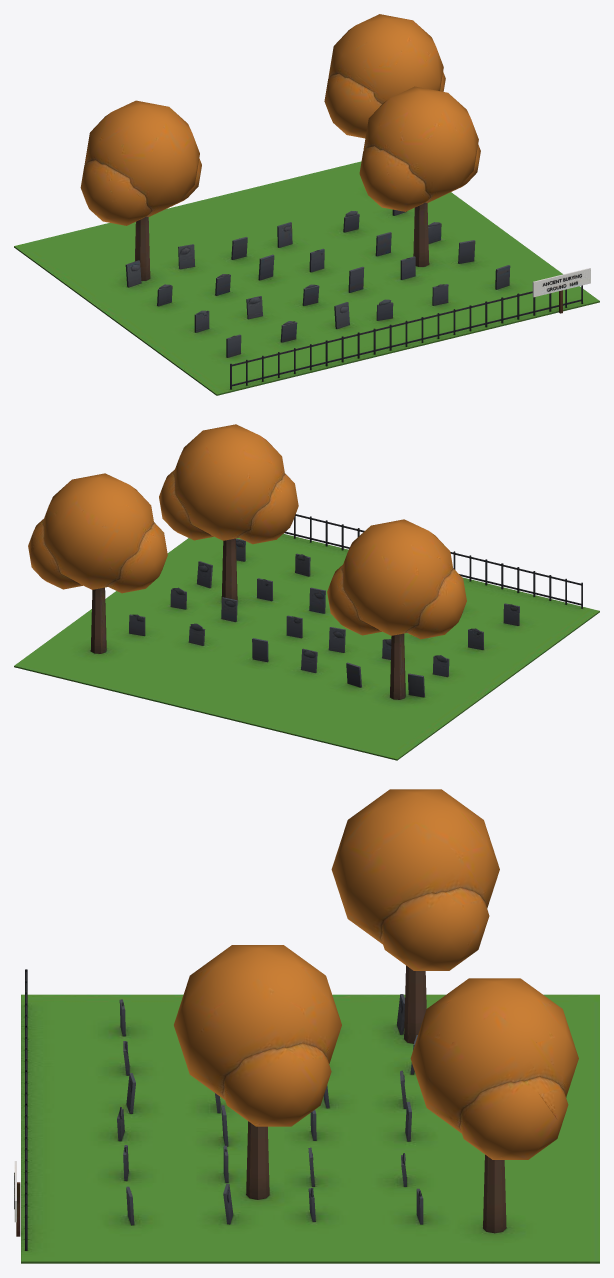
File: cementerio_antiguo.glb
3 renders of one model, top to bottom at view 1: azimuth 30°, elevation 25°; view 2: azimuth 150°, elevation 25°; view 3: azimuth 270°, elevation 25°, orthographic. The views are drawn at different scales.
Parts seen in each view (by area): view 1: cementerio_antiguo; view 2: cementerio_antiguo; view 3: cementerio_antiguo.
Part boxes in pixels (box(x1,y1,x2,y2)): cementerio_antiguo: box(14, 14, 599, 395); cementerio_antiguo: box(14, 424, 599, 760); cementerio_antiguo: box(14, 789, 599, 1263).
Size of the model in its own units: 24.69 by 10.4 by 22.27.
Materials: 1 (1 with a texture image).
